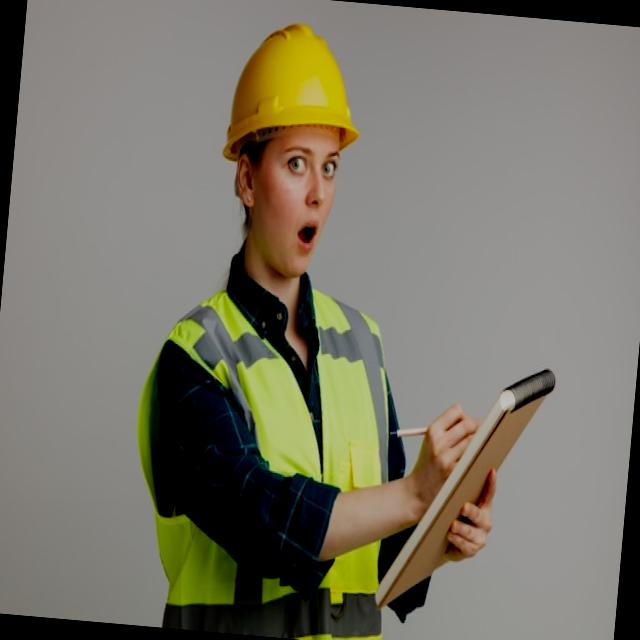helmet: (220, 13, 370, 182)
no-goggles: (232, 129, 357, 207)
vest: (117, 265, 416, 640)
